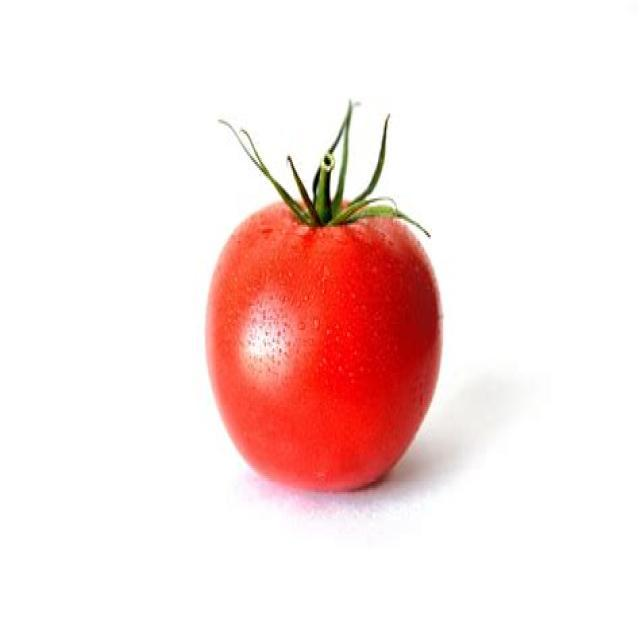Tomato: (203, 112, 445, 495)
